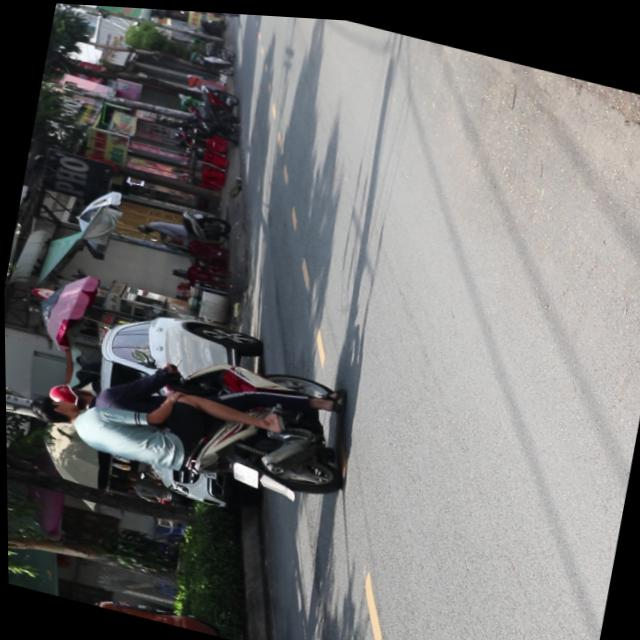helmet: (42, 377, 95, 416)
licenseplate: (23, 307, 358, 521)
motorcyclist: (28, 395, 78, 430)
nohelmet: (229, 459, 258, 485)
